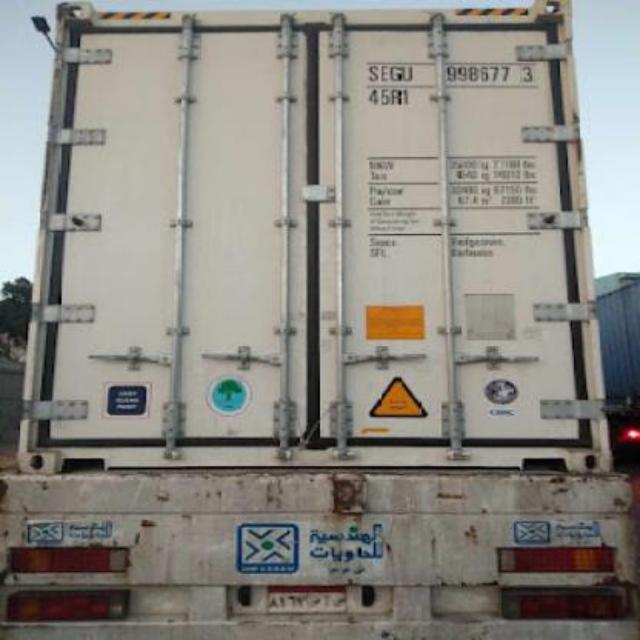3: (522, 65, 534, 81)
6: (478, 63, 490, 81)
7: (488, 65, 500, 81), (500, 65, 512, 81)
8: (468, 63, 480, 81)
9: (446, 65, 458, 81), (458, 65, 468, 81)
E: (378, 65, 392, 81)
G: (388, 65, 402, 81)
S: (366, 65, 379, 81)
U: (400, 65, 418, 81)
